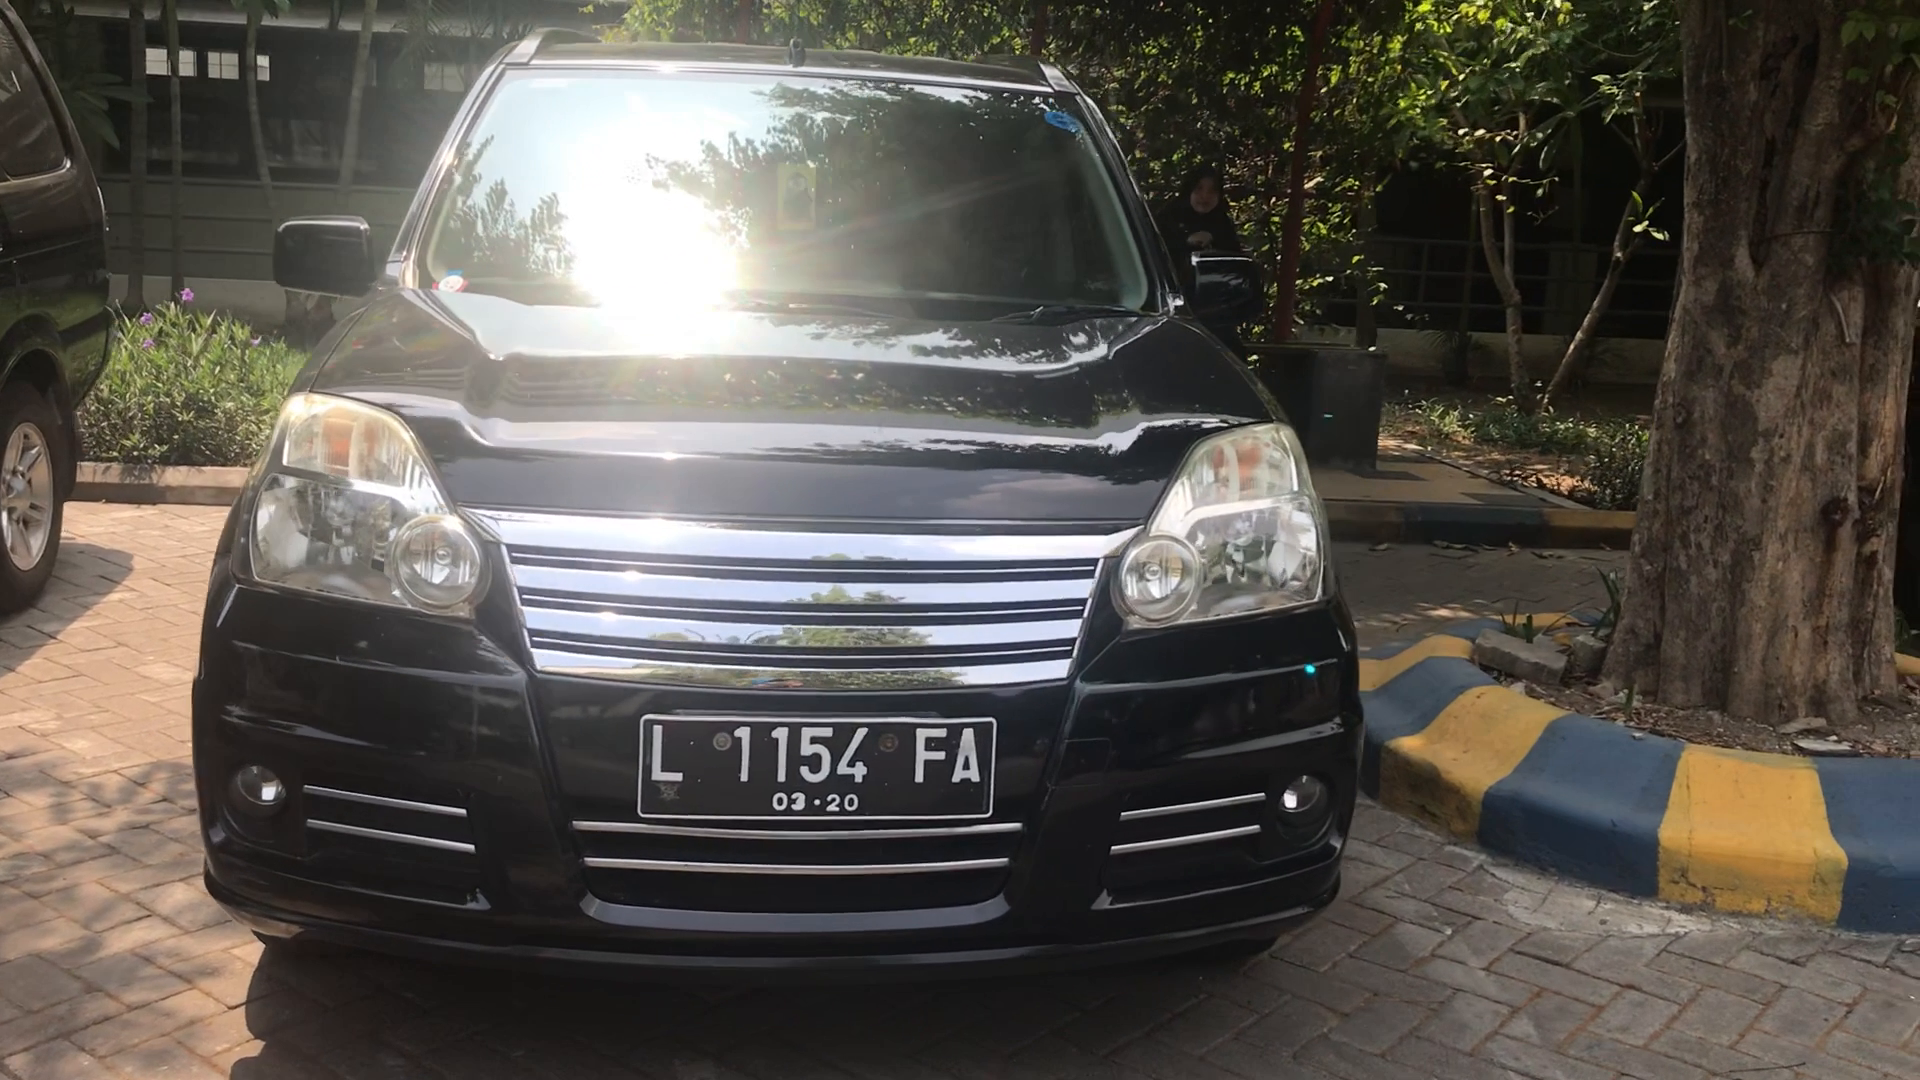plate: (637, 710, 1000, 827)
